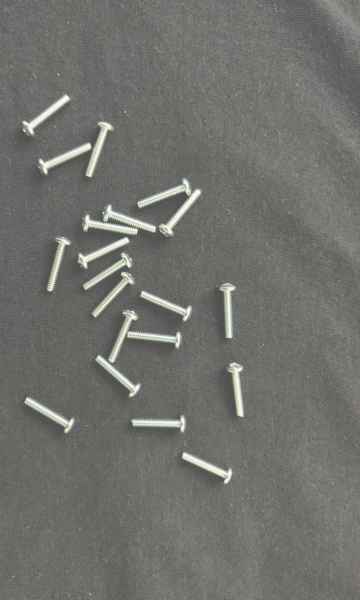longscrew: (92, 353, 139, 399), (25, 396, 76, 438), (179, 451, 235, 489), (83, 249, 133, 289), (89, 275, 136, 317), (161, 190, 203, 237), (136, 290, 194, 324), (105, 312, 138, 364), (138, 176, 191, 208), (46, 237, 74, 293), (105, 203, 156, 233), (80, 236, 129, 267), (89, 123, 112, 176), (80, 215, 138, 235), (219, 281, 237, 339), (228, 364, 245, 422), (126, 330, 182, 347), (132, 417, 189, 431)
